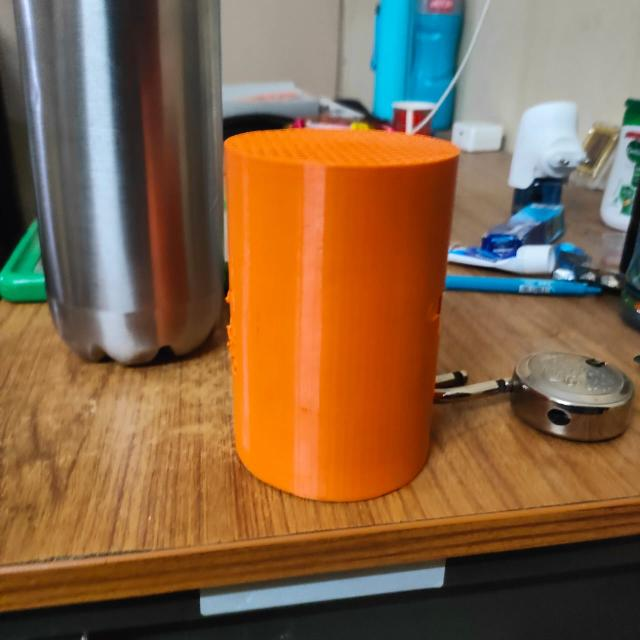Cylinder: (222, 125, 461, 502)
